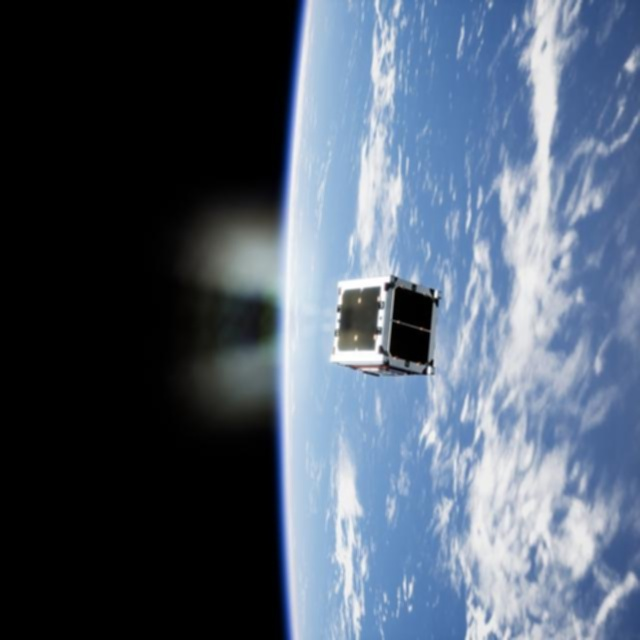satellite: (326, 271, 440, 381)
